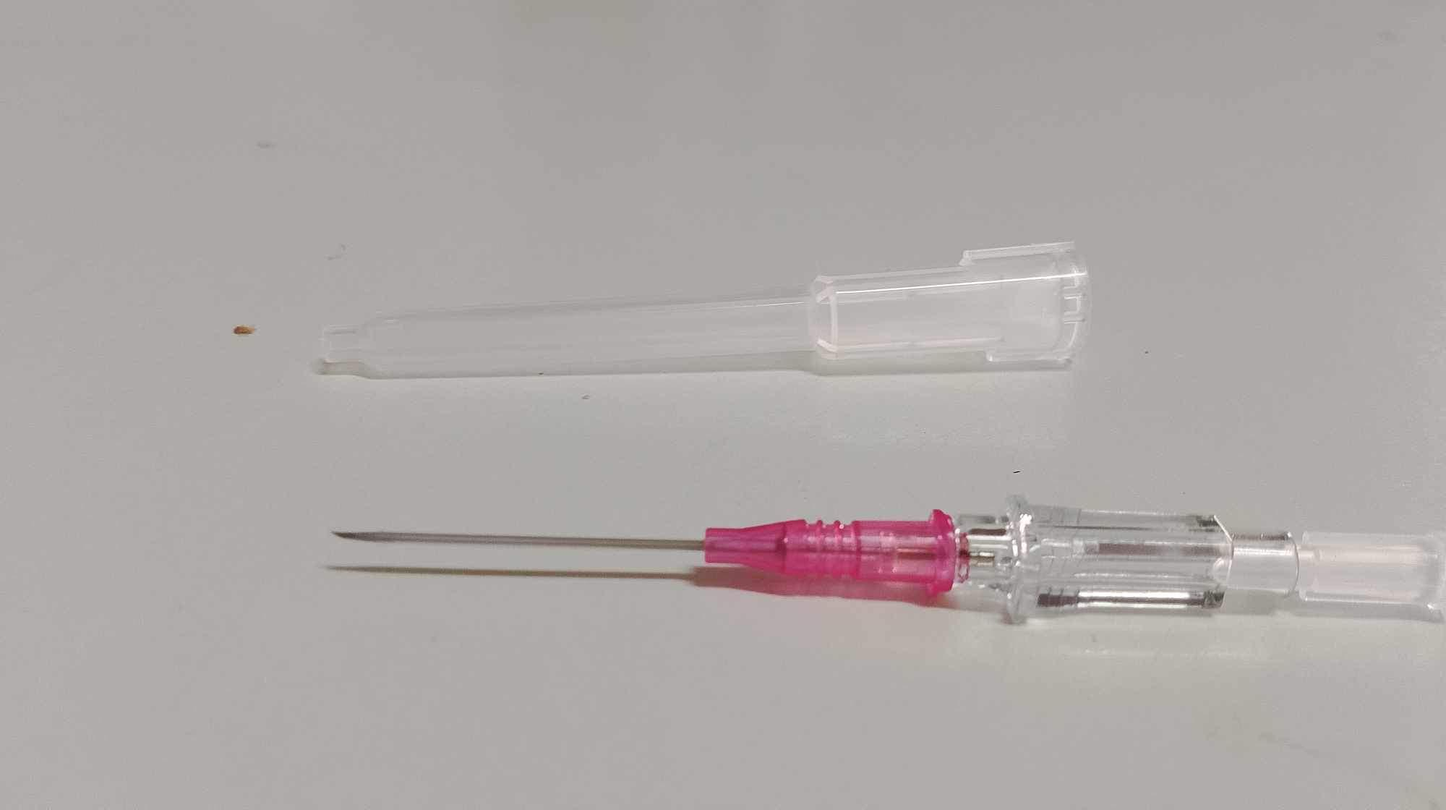General: (304, 234, 1439, 634), (700, 508, 970, 600)
Sharps: (324, 493, 1443, 626), (313, 237, 1092, 381)
